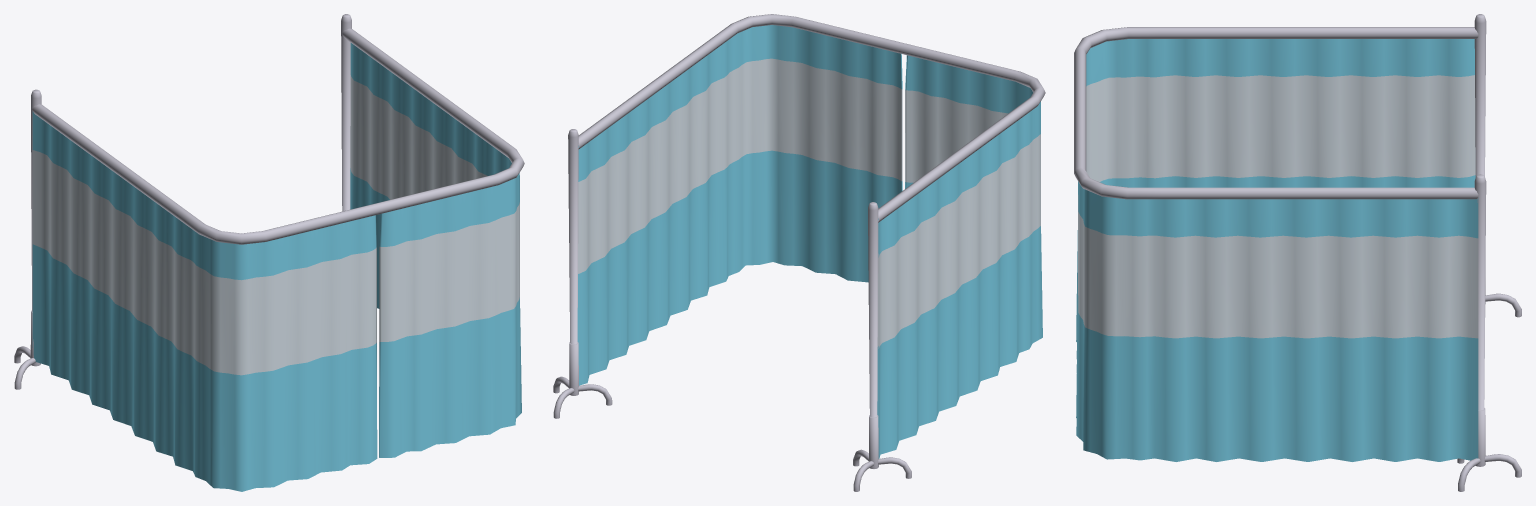
The model's file is curtain_M.fbx.
3 views of the same model, side by side, from view 1: azimuth 30°, elevation 25°; view 2: azimuth 150°, elevation 25°; view 3: azimuth 270°, elevation 25° (orthographic). The views are drawn at different scales.
Parts seen in each view (by area): view 1: Cloth_01, Stand_02; view 2: Cloth_01, Stand_02; view 3: Cloth_01, Stand_02.
Boxes of the visible parts, box(x1,y1,x2,y2) form: Cloth_01: box(32, 43, 521, 491); Stand_02: box(14, 14, 524, 389); Cloth_01: box(577, 25, 1042, 458); Stand_02: box(553, 14, 1045, 491); Cloth_01: box(1076, 39, 1478, 461); Stand_02: box(1074, 14, 1521, 491).
Bounding box in the file's own units: 2026 × 1486 × 2005.
1 material, 1 textured.
